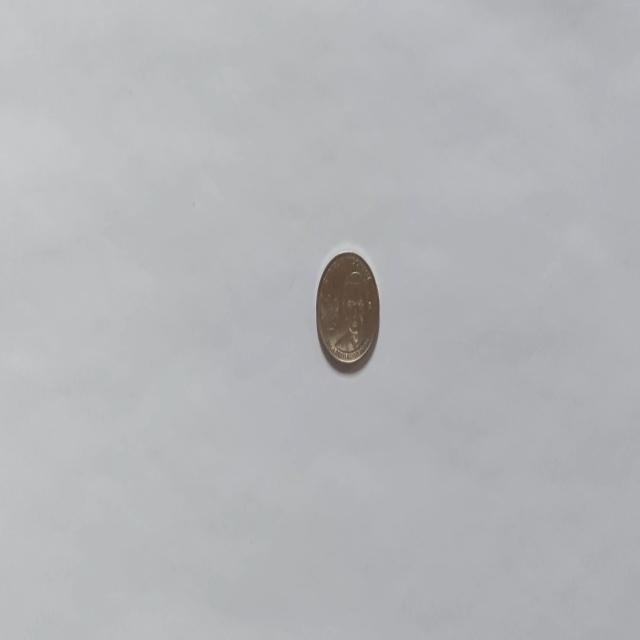seribu rupiah koin: (314, 248, 380, 370)
